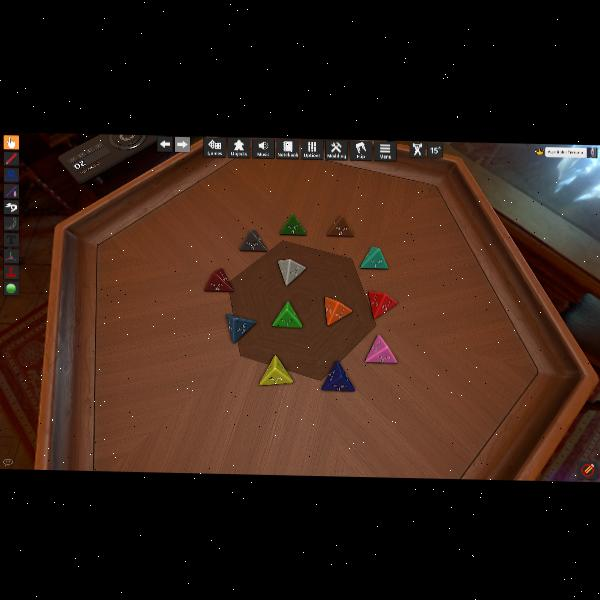d4: (259, 355, 293, 386), (322, 360, 354, 391), (366, 334, 397, 363), (226, 314, 256, 343), (367, 290, 395, 319), (272, 301, 301, 328), (325, 297, 352, 326), (278, 259, 306, 286), (360, 245, 388, 269), (204, 267, 232, 291), (238, 229, 266, 252), (280, 214, 306, 235), (327, 215, 352, 236)
